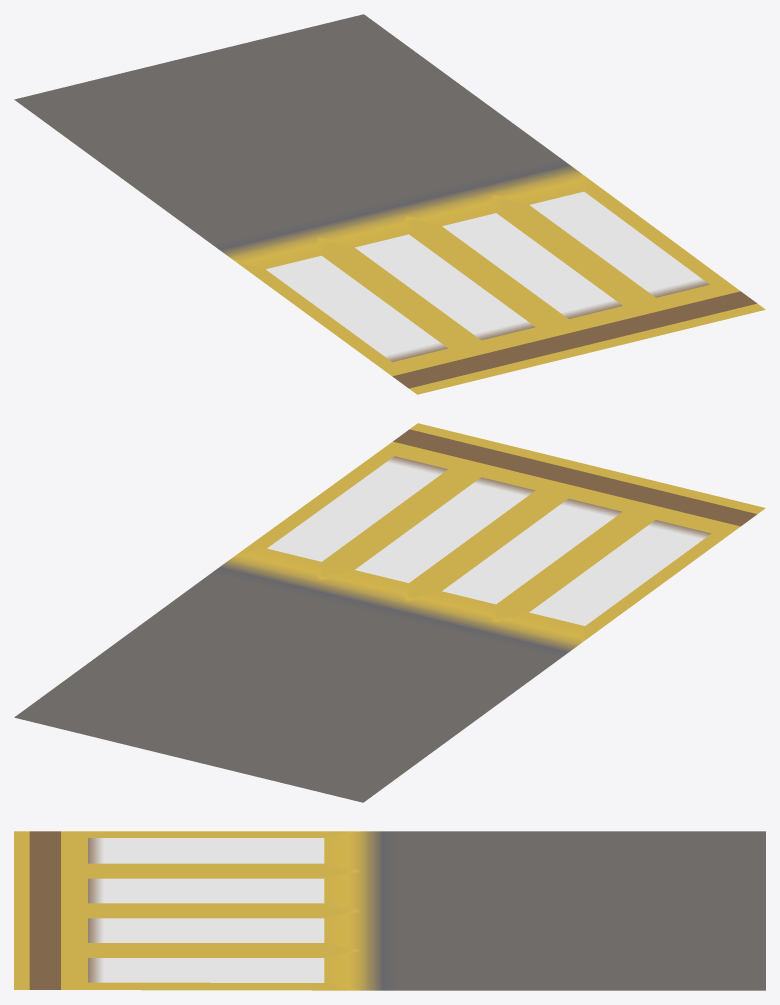
3 renders of one model, top to bottom at view 1: azimuth 30°, elevation 25°; view 2: azimuth 150°, elevation 25°; view 3: azimuth 270°, elevation 25°, orthographic. The views are drawn at different scales.
Visible parts, largest first — view 1: road; view 2: road; view 3: road.
Boxes of the visible parts, x1,y1,x2,y2 form: road: (14,14,765,394); road: (14,423,765,802); road: (14,831,765,990).
Bounding box in the file's own units: 601 × 0 × 1200.
